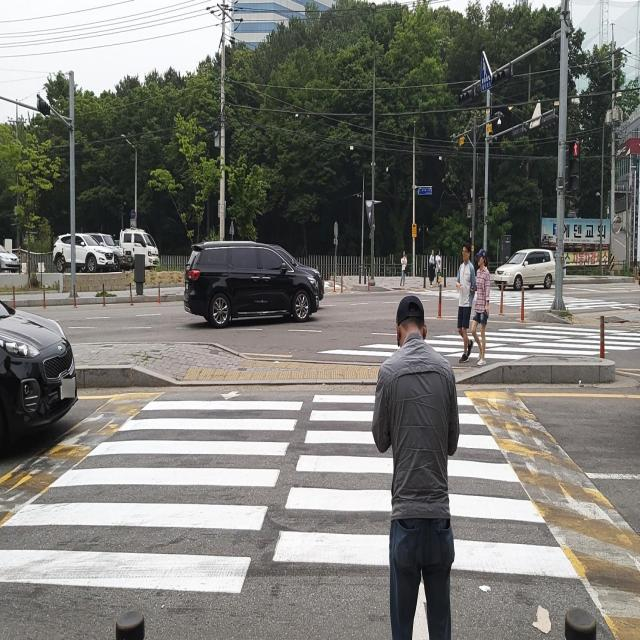빨간불: (570, 137, 582, 193)
횡단보도: (0, 388, 583, 640), (317, 325, 640, 362), (409, 284, 640, 316)
